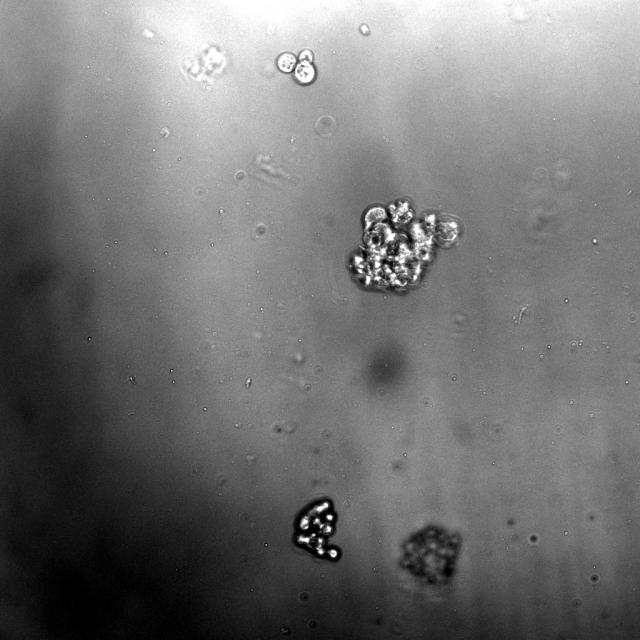organoid: (348, 198, 462, 292), (399, 525, 461, 584), (292, 498, 341, 560), (181, 43, 227, 85), (276, 49, 317, 85)
